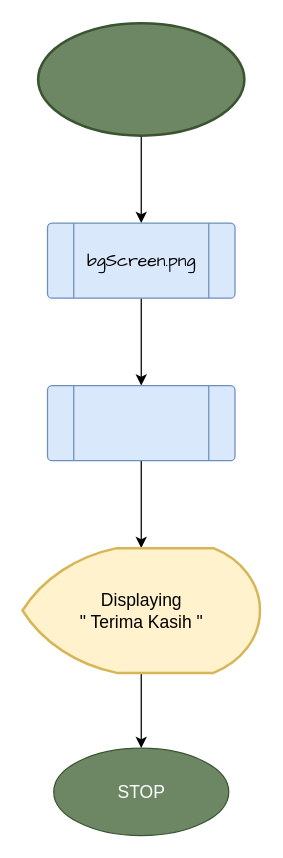
Image size: 283x858. Some labels were removed from this diagram. The box of each missing label's shape, as (x1, y1, x2, y2) in pixels:
exitscreen.py: (46, 384, 235, 461)
Main Menu: (36, 21, 245, 136)
